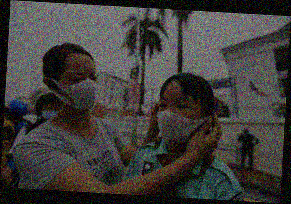with_mask: (155, 95, 201, 146), (59, 68, 100, 111)
